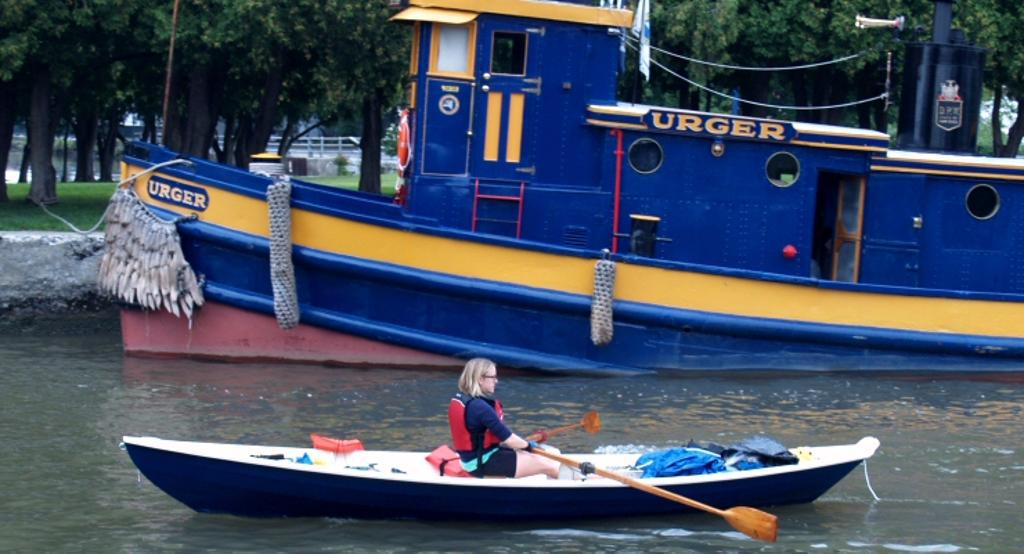face: (483, 369, 498, 394)
